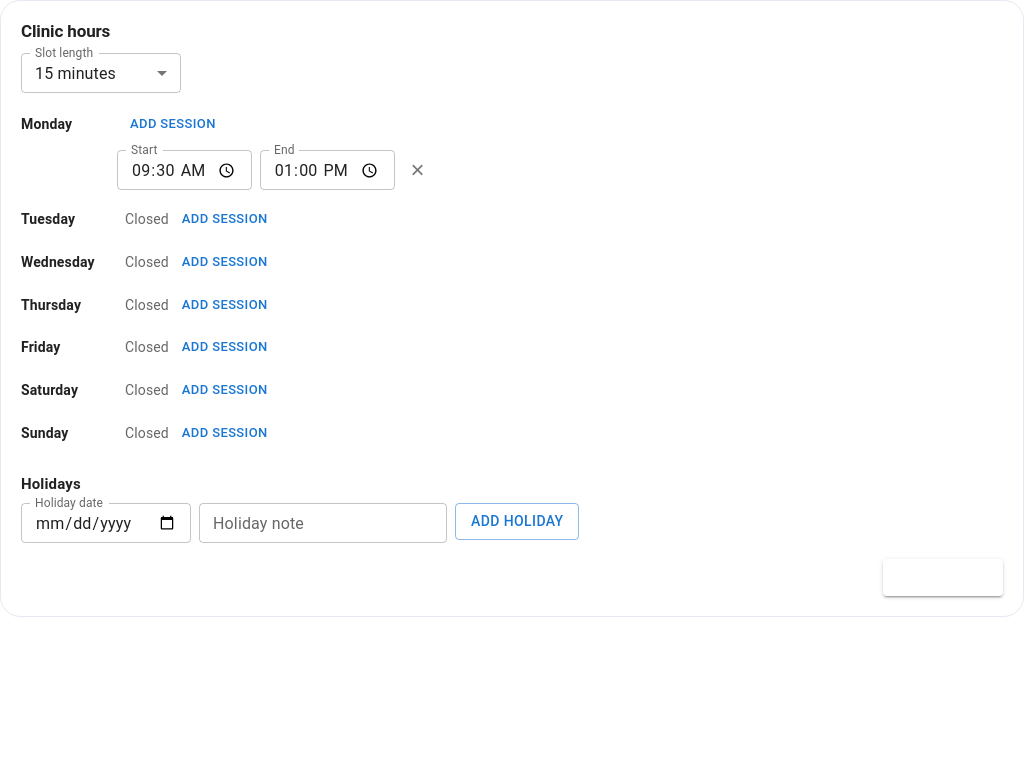
Test: ClinicHoursSection › warns and lists bookings on OffGridError, without success toast
Click the button "Save hours": (943, 577) x1=883 y1=559 x2=1003 y2=596
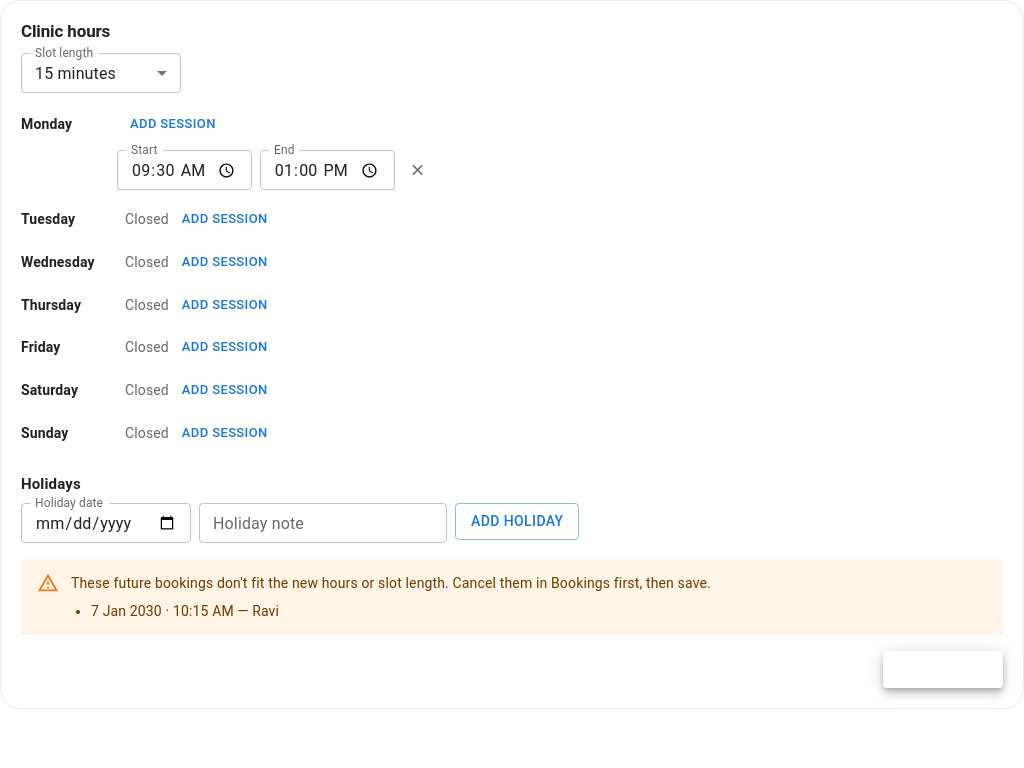
Result: the text "These future bookings don't fit the new hours or slot length. Cancel them in Bookings first, then save." is shown at x1=71 y1=575 x2=711 y2=591
Result: the list item "7 Jan 2030 · 10:15 AM — Ravi" is shown at x1=91 y1=603 x2=279 y2=619
